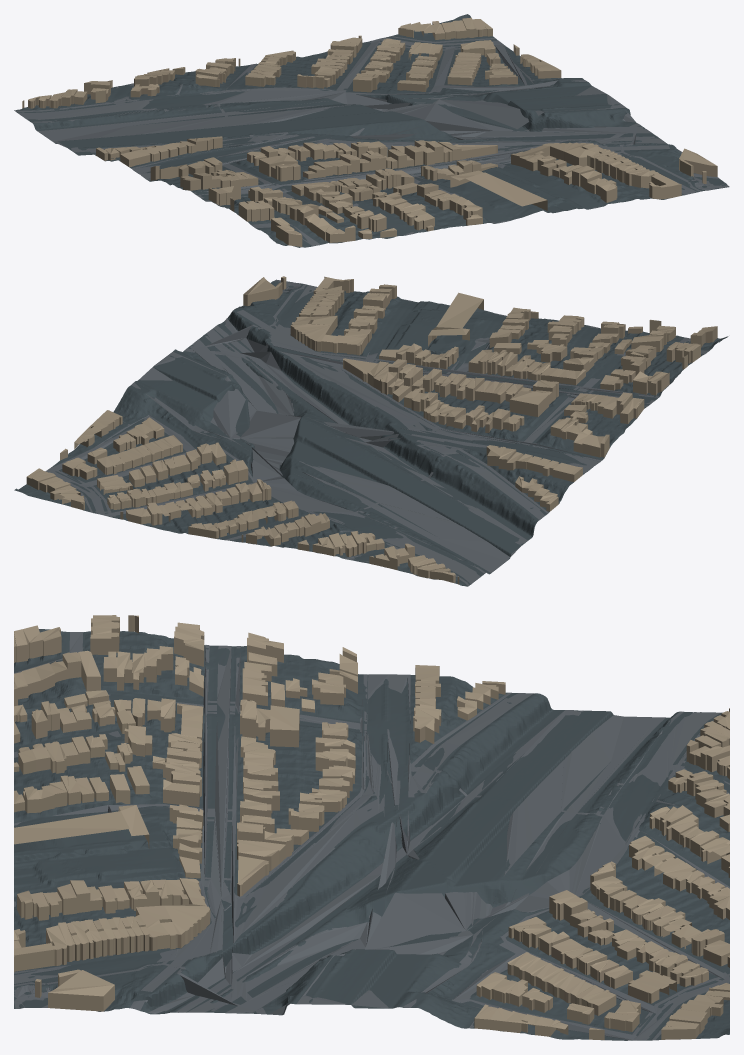
File: epsg26910-1431-10875.lod0.glb
3 renders of one model, top to bottom at view 1: azimuth 30°, elevation 25°; view 2: azimuth 150°, elevation 25°; view 3: azimuth 270°, elevation 25°, orthographic. The views are drawn at different scales.
Visible parts, largest first — view 1: epsg26910-1431-10875-lod0; view 2: epsg26910-1431-10875-lod0; view 3: epsg26910-1431-10875-lod0.
Boxes of the visible parts, x1,y1,x2,y2 form: epsg26910-1431-10875-lod0: (14,14,729,247); epsg26910-1431-10875-lod0: (14,276,728,586); epsg26910-1431-10875-lod0: (14,615,729,1040).
Bounding box in the file's own units: 384 × 72.97 × 384.
